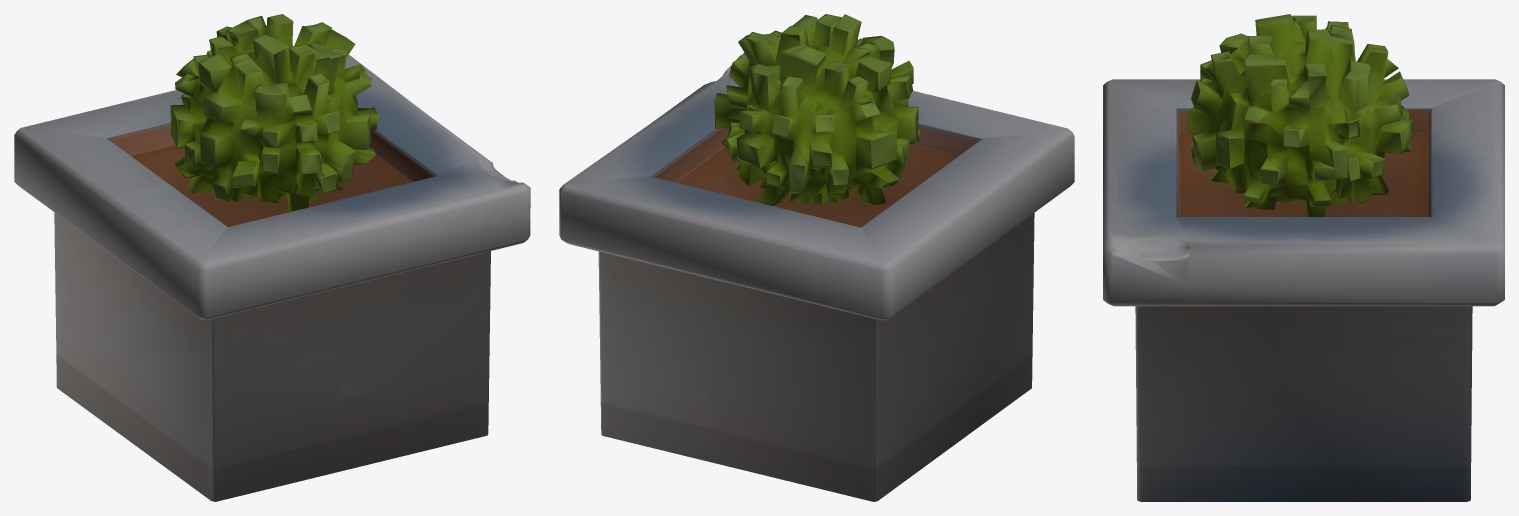
File: plaza_planter.glb
The picture shows the model from 3 angles, left to right: view 1: azimuth 30°, elevation 25°; view 2: azimuth 150°, elevation 25°; view 3: azimuth 270°, elevation 25°; orthographic projection. The views are drawn at different scales.
Parts seen in each view (by area): view 1: TesanaFacingY180; view 2: TesanaFacingY180; view 3: TesanaFacingY180.
Part boxes in pixels (x1,y1,x2,y2): TesanaFacingY180: [14, 14, 530, 501]; TesanaFacingY180: [559, 14, 1074, 501]; TesanaFacingY180: [1103, 14, 1504, 501].
Size of the model in its own units: 1.09 by 1.2 by 1.08.
1 material, 1 textured.
